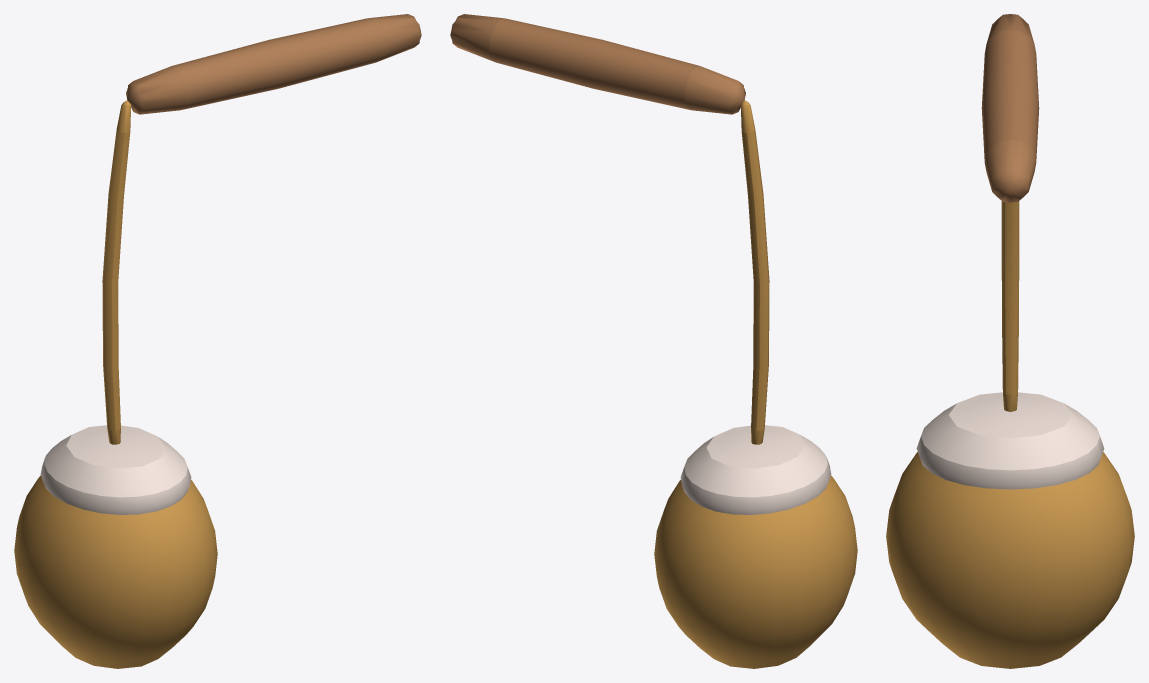
File: weapon_censer.glb
3 renders of one model, left to right at view 1: azimuth 30°, elevation 25°; view 2: azimuth 150°, elevation 25°; view 3: azimuth 270°, elevation 25°, orthographic. The views are drawn at different scales.
Parts seen in each view (by area): view 1: weapon_censer; view 2: weapon_censer; view 3: weapon_censer.
Boxes of the visible parts, x1,y1,x2,y2 form: weapon_censer: [14, 14, 421, 668]; weapon_censer: [450, 14, 857, 668]; weapon_censer: [886, 14, 1134, 668].
Size of the model in its own units: 0.3465 by 0.4878 by 0.1663.
